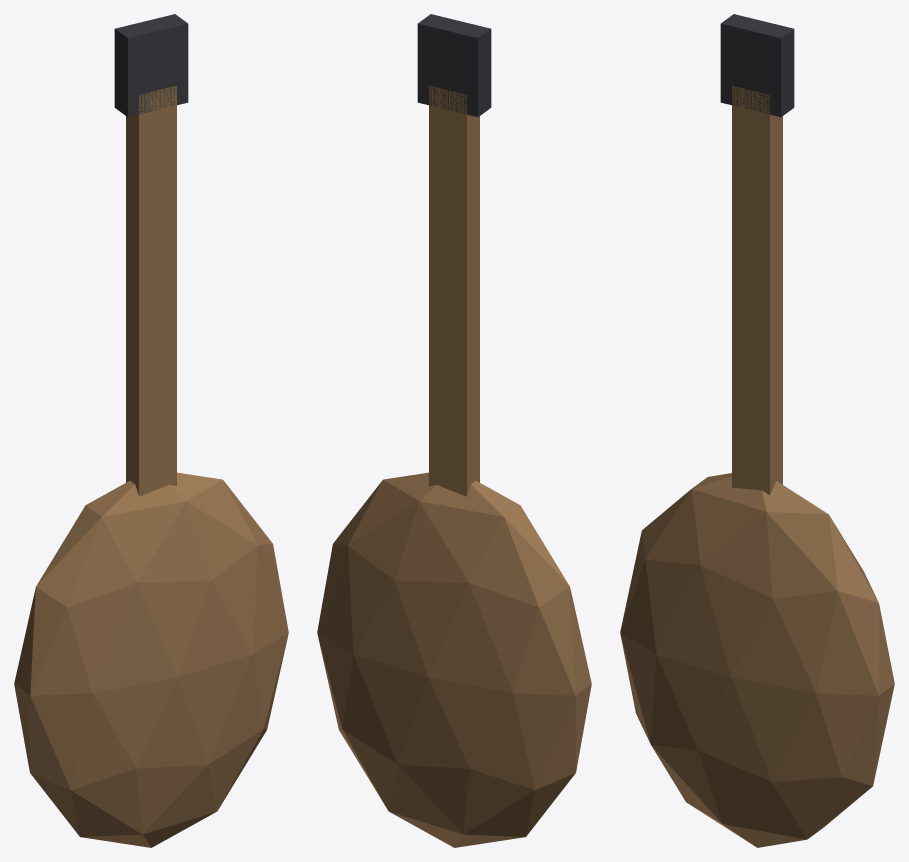
File: sm_product_guitar.glb
The picture shows the model from 3 angles, left to right: view 1: azimuth 30°, elevation 25°; view 2: azimuth 150°, elevation 25°; view 3: azimuth 330°, elevation 25°; orthographic projection.
Visible parts, largest first — view 1: guitar_0, guitar_1, guitar_2; view 2: guitar_0, guitar_1, guitar_2; view 3: guitar_0, guitar_1, guitar_2.
Boxes of the visible parts, <box> form: guitar_0: <box>14,472,288,847</box>; guitar_1: <box>126,85,176,496</box>; guitar_2: <box>114,14,188,117</box>; guitar_0: <box>317,472,591,847</box>; guitar_1: <box>429,85,479,496</box>; guitar_2: <box>417,14,491,117</box>; guitar_0: <box>620,473,894,847</box>; guitar_1: <box>732,85,782,494</box>; guitar_2: <box>720,14,794,117</box>.
Size of what is drawn, in the model's own units: 0.3424 by 1.04 by 0.12.
